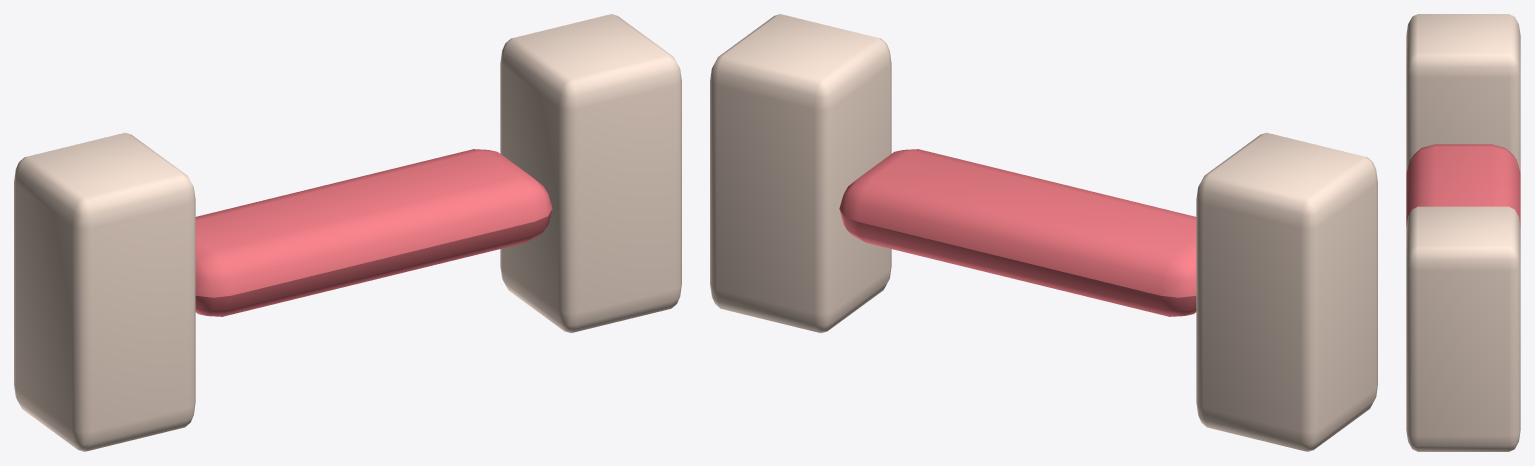
The model's file is Props_Conveyor_Pink_Holder_01.fbx.
The picture shows the model from 3 angles, left to right: view 1: azimuth 30°, elevation 25°; view 2: azimuth 150°, elevation 25°; view 3: azimuth 270°, elevation 25°; orthographic projection. The views are drawn at different scales.
Visible parts, largest first — view 1: Props_Conveyor_Pink_Holder_01; view 2: Props_Conveyor_Pink_Holder_01; view 3: Props_Conveyor_Pink_Holder_01.
Boxes of the visible parts, bbox=[...] form: Props_Conveyor_Pink_Holder_01: bbox=[14, 14, 681, 451]; Props_Conveyor_Pink_Holder_01: bbox=[710, 14, 1377, 451]; Props_Conveyor_Pink_Holder_01: bbox=[1406, 14, 1520, 451].
Size of the model in its own units: 50 by 20 by 10.
